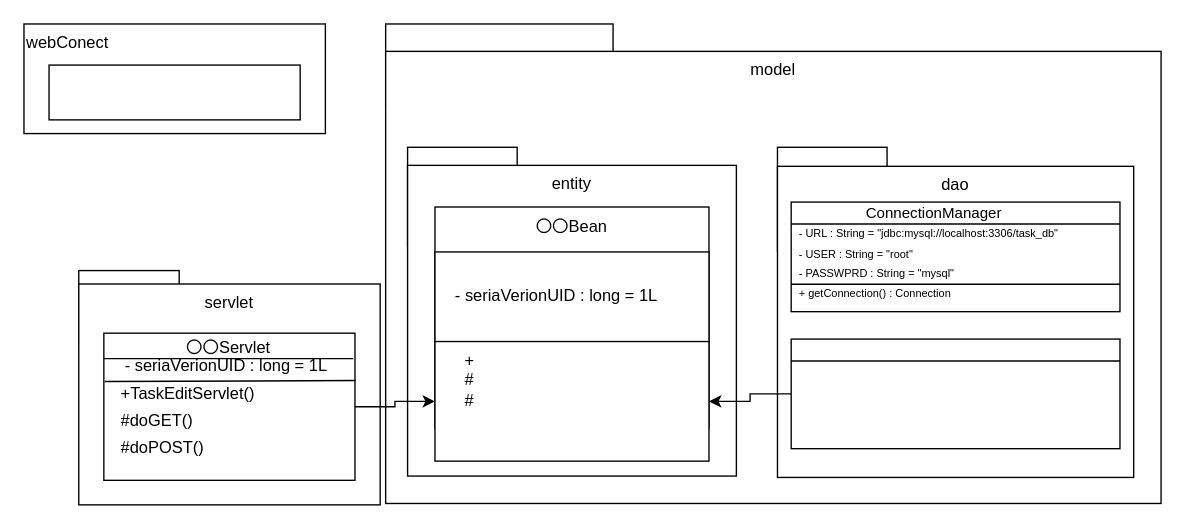
Some shapes in this 1185 by 529 pixel diagram are drawn without their labels. The shapes that lost their labels are listed below. From the top down, each one's centre as x and y in pixels, then its label:
At point (174, 92): "<<JSP>>".
At point (955, 393): "TaskDAO".
